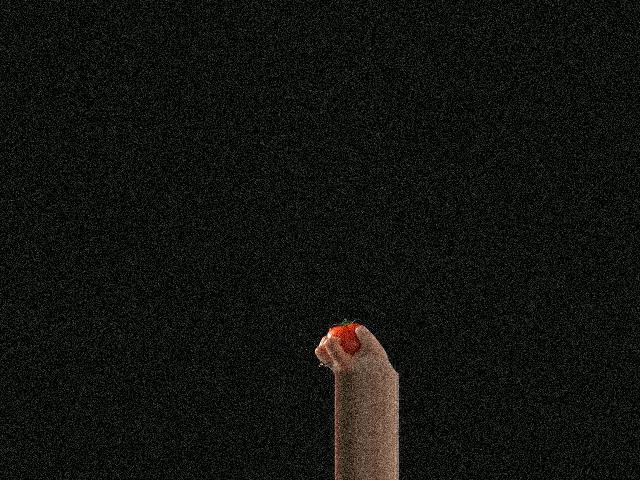tomato: (327, 323, 362, 354)
